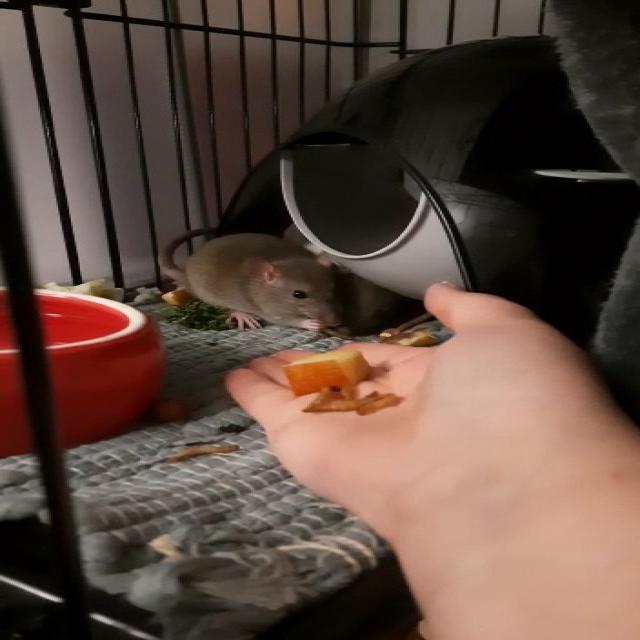rat: (181, 230, 352, 333)
